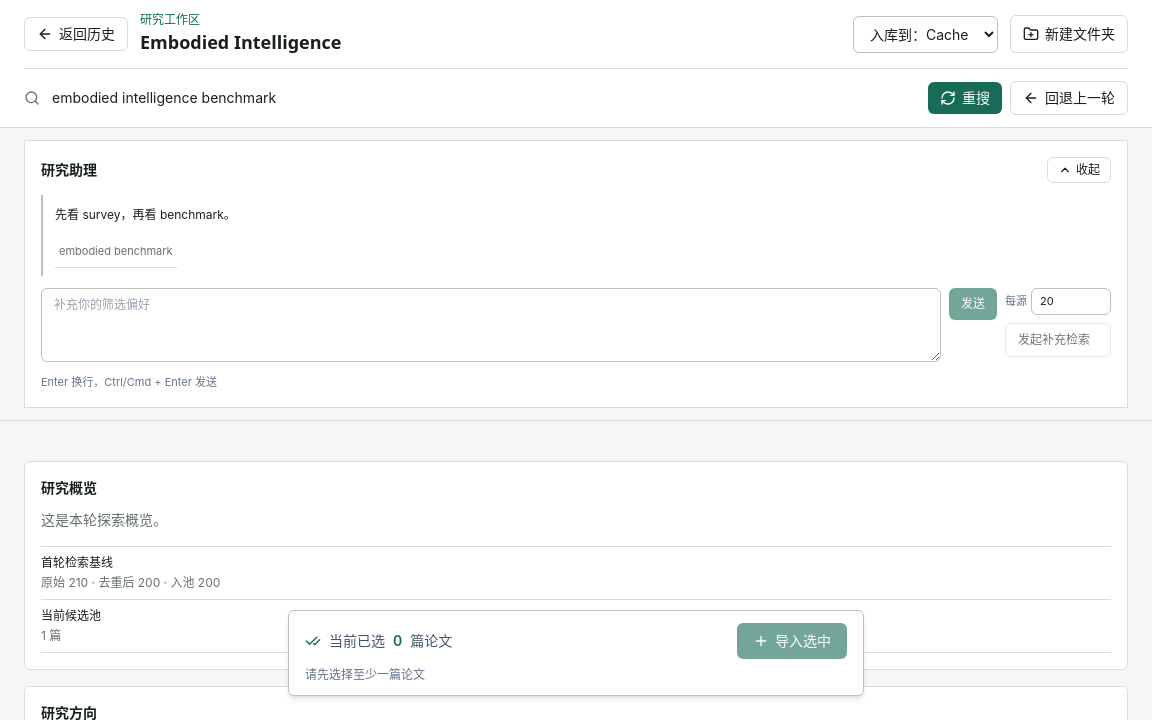
SessionDetailPanel › redacts sensitive values in create-folder modal errors
The image size is (1152, 720).
Click the button "新建文件夹".
click(1069, 34)  # box [1010,15,1128,53]
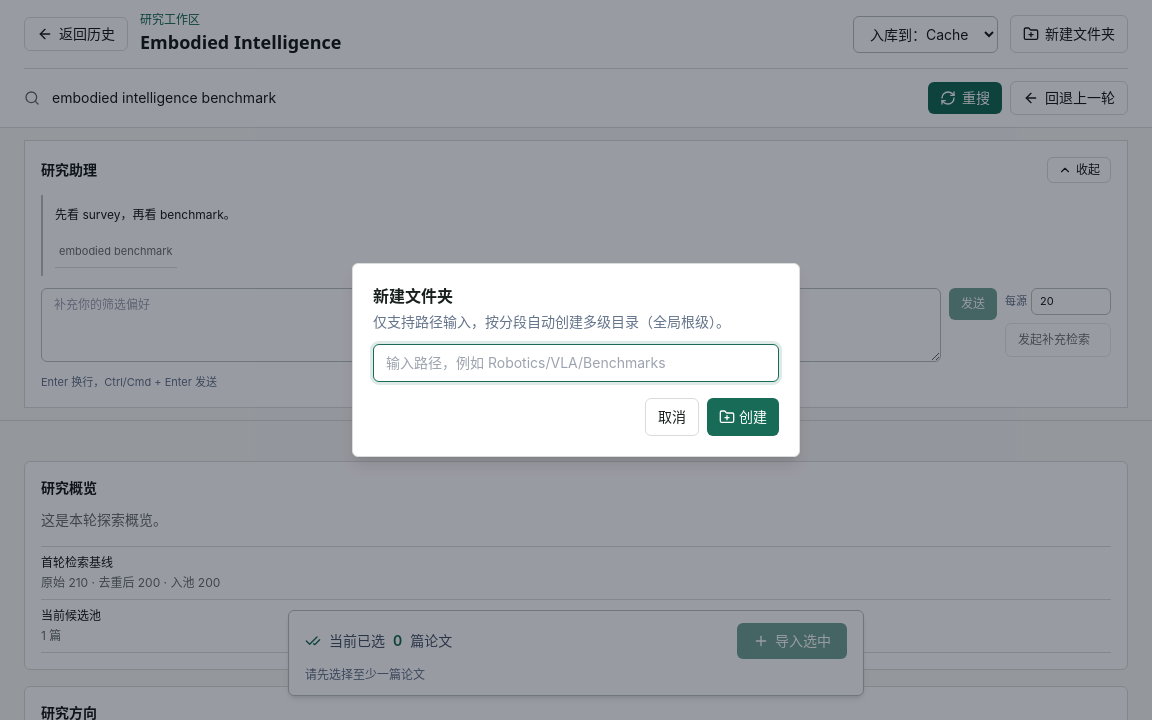
Type "Robotics/VLA/My Folder" into the field with placeholder "输入路径，例如 Robotics/VLA/Benchmarks".
click(576, 363); type("Robotics/VLA/My Folder")  # box [373,344,779,382]
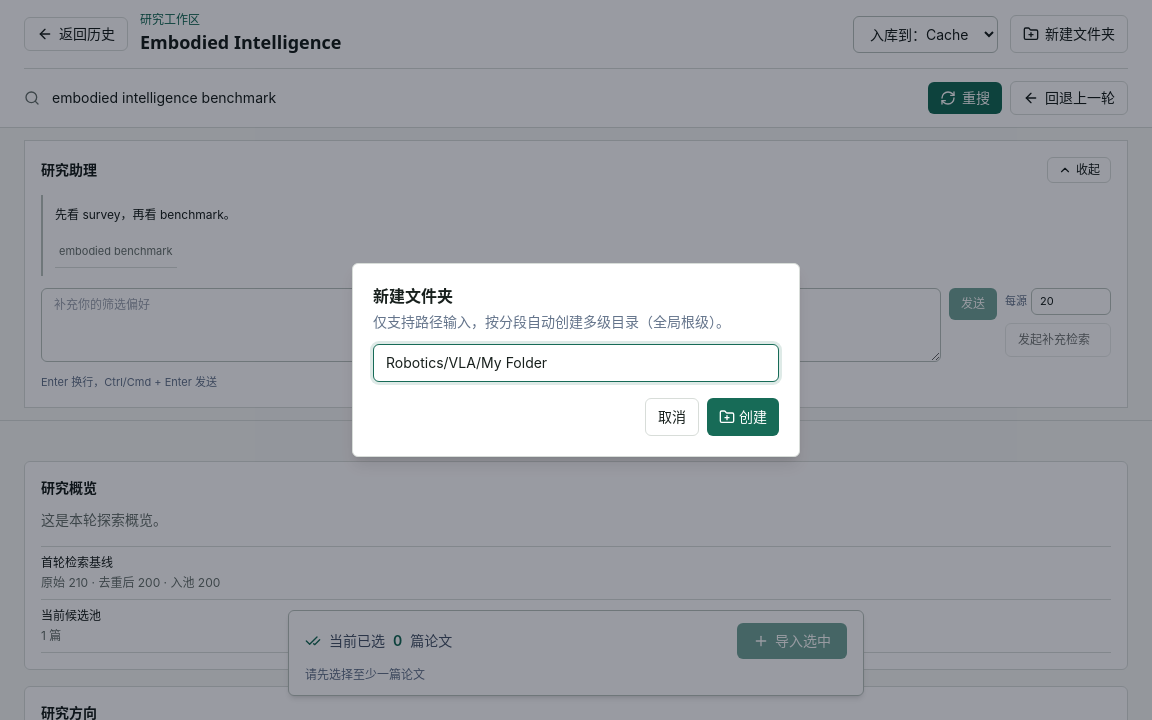
Click the button "创建".
click(743, 417)  # box [707,398,779,436]
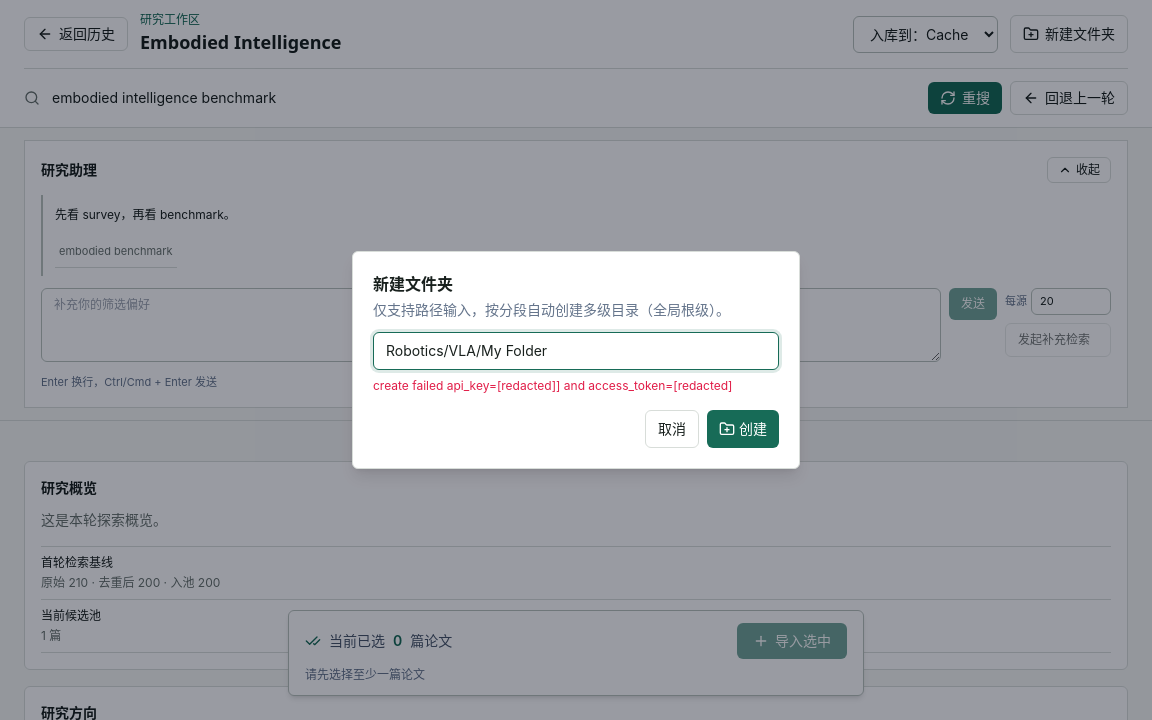
Now the text "api_key=[redacted]" is shown, box [373,378,732,393]
Now the text "access_token=[redacted]" is shown, box [373,378,732,393]
